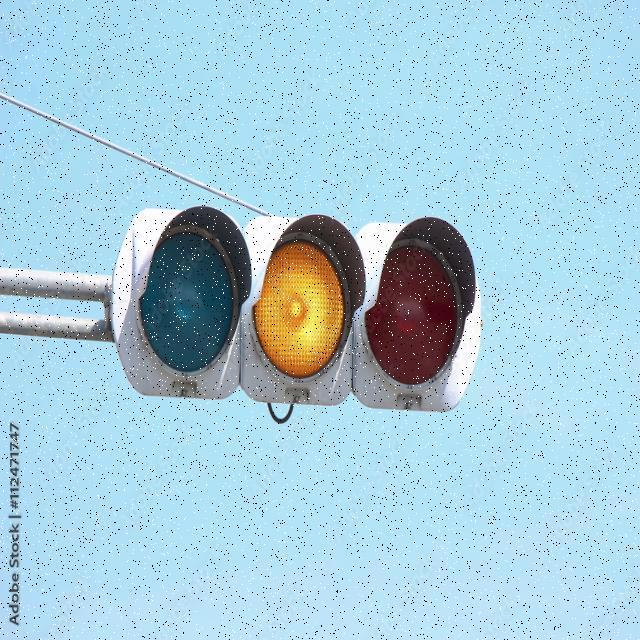yellow_light: (261, 234, 366, 398)
